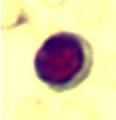lymphocyte: (30, 27, 98, 92)
